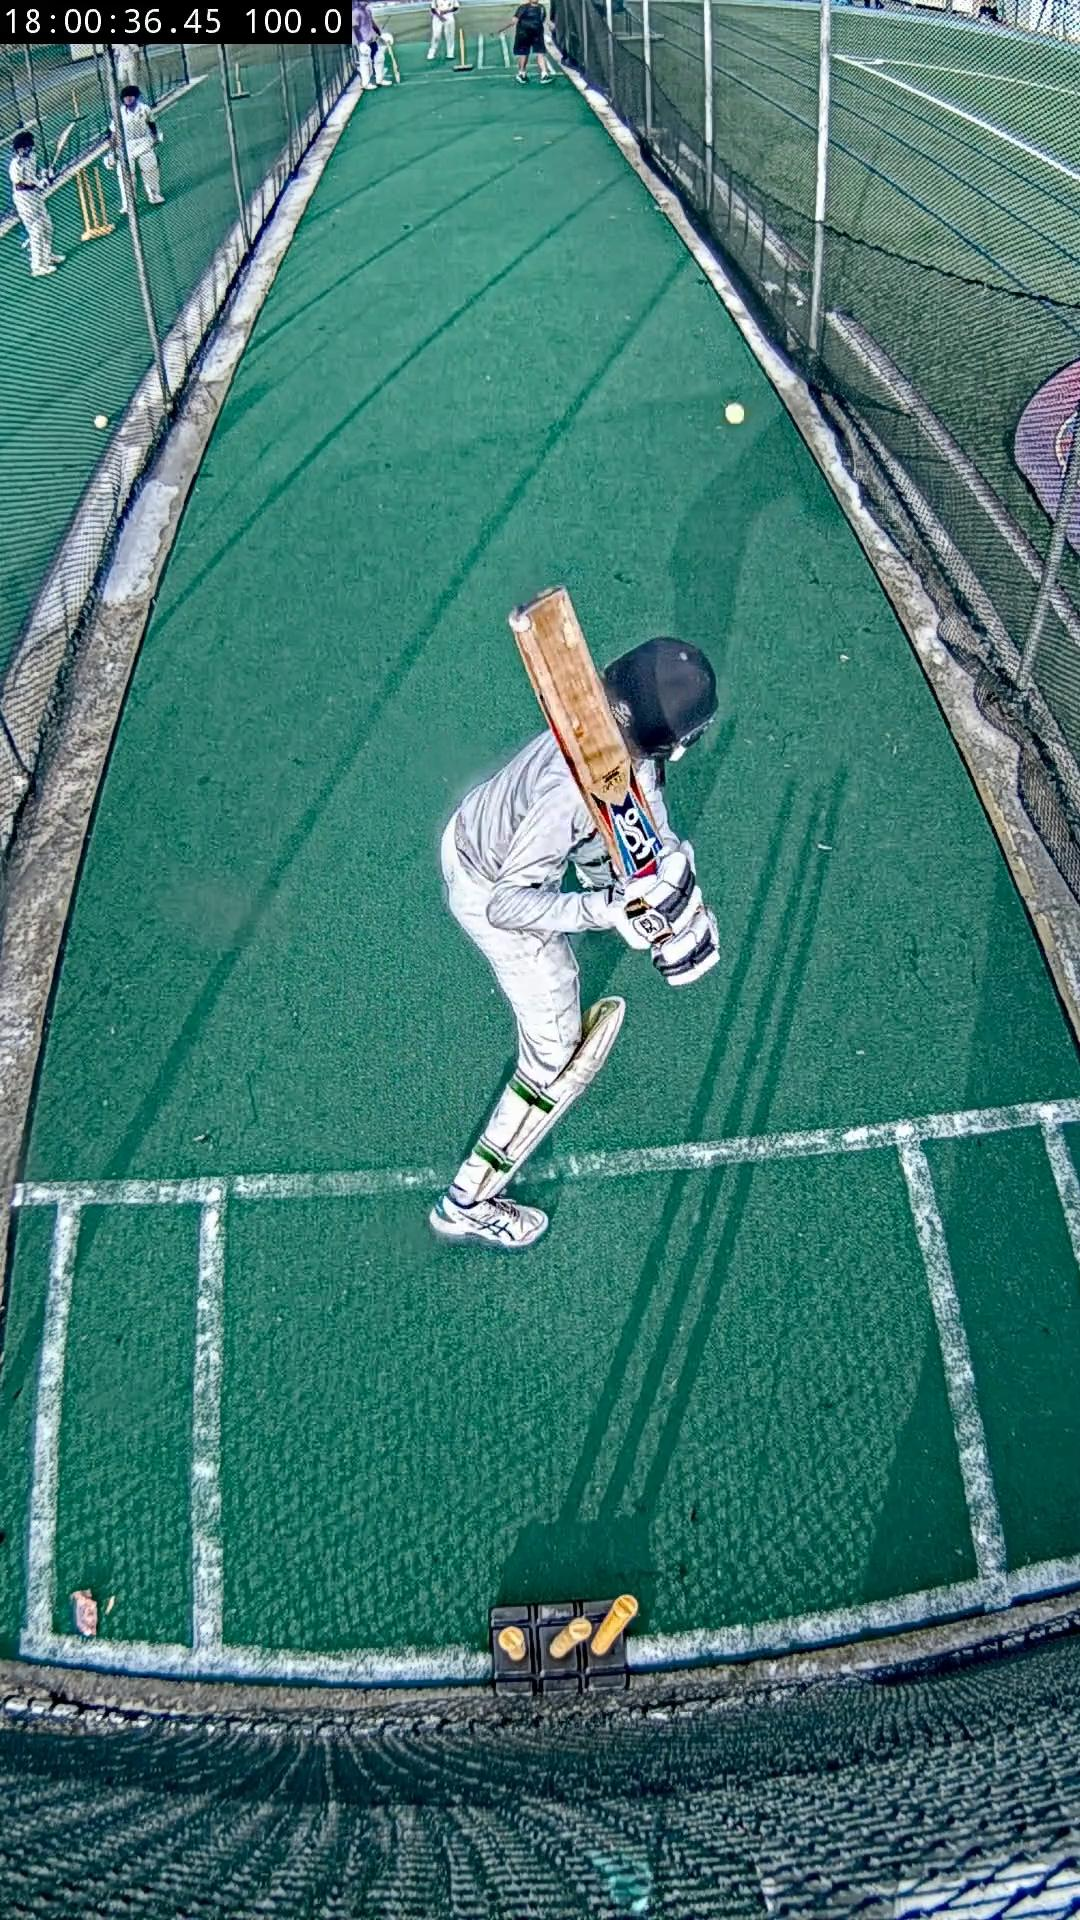ball: (724, 401, 746, 423)
bat: (510, 585, 661, 881)
gloves: (608, 848, 720, 986)
helmet: (604, 637, 716, 756)
pads: (480, 997, 626, 1199)
stumps: (492, 1594, 637, 1695)
